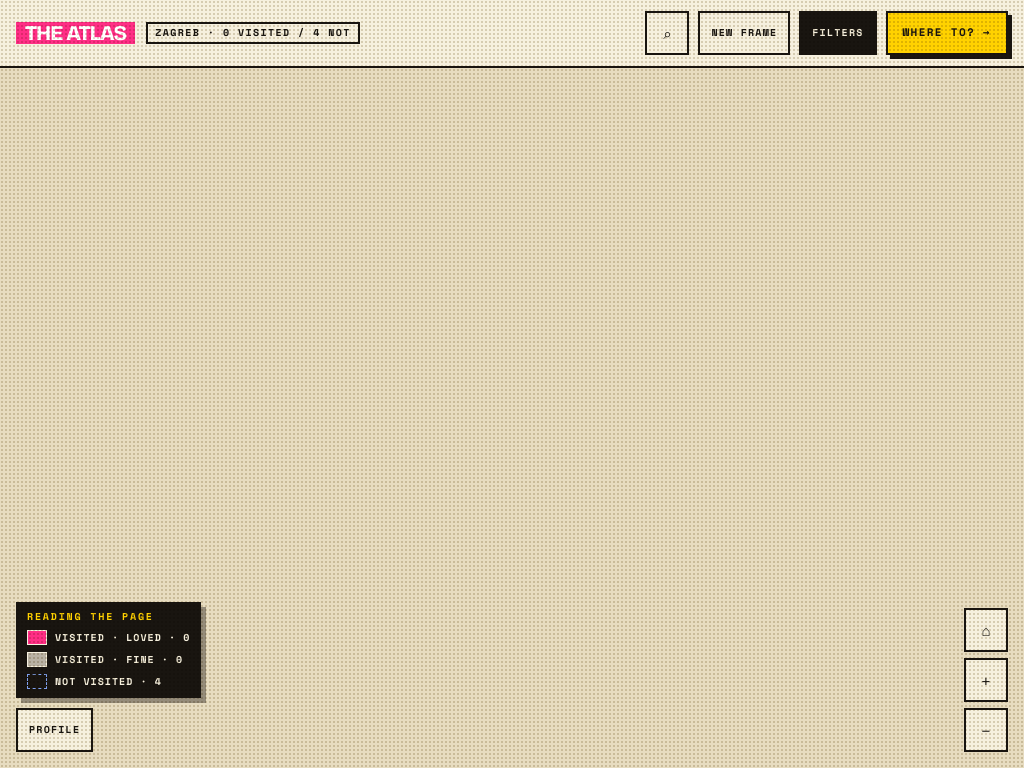
AtlasScreen — Profile screen (issue 142) › reflects the current frame data, not a stale snapshot
Click the button "Profile": (55, 730) x1=16 y1=708 x2=93 y2=752
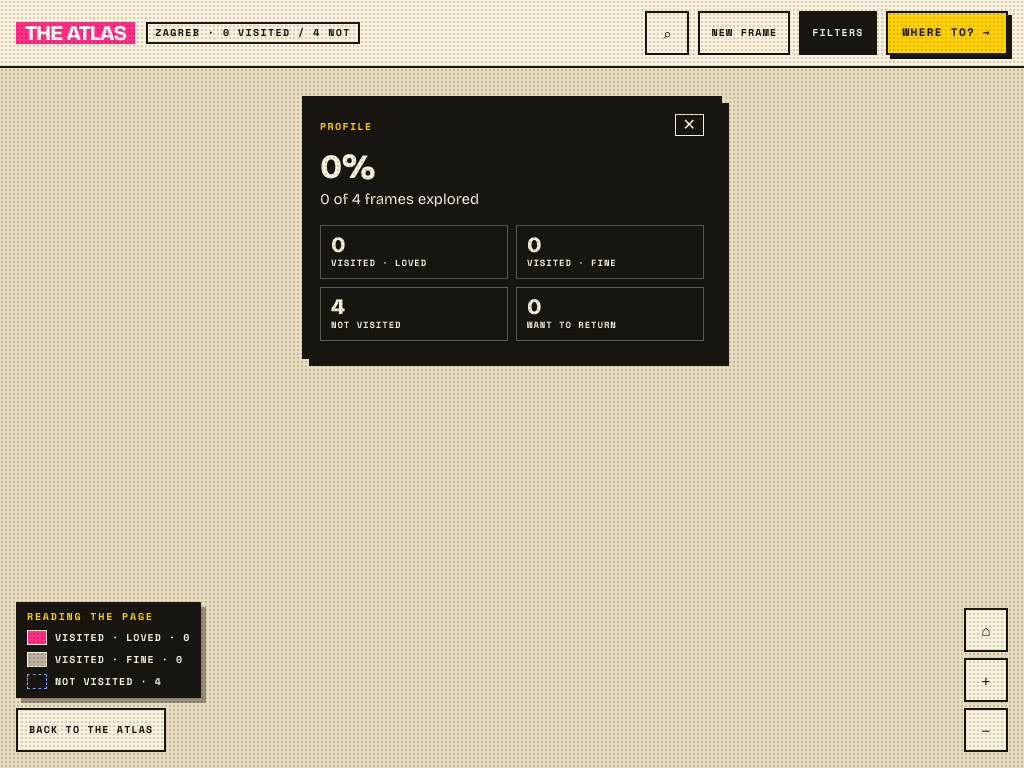
expect the text "0%" is shown: met, box x1=320 y1=146 x2=376 y2=187
